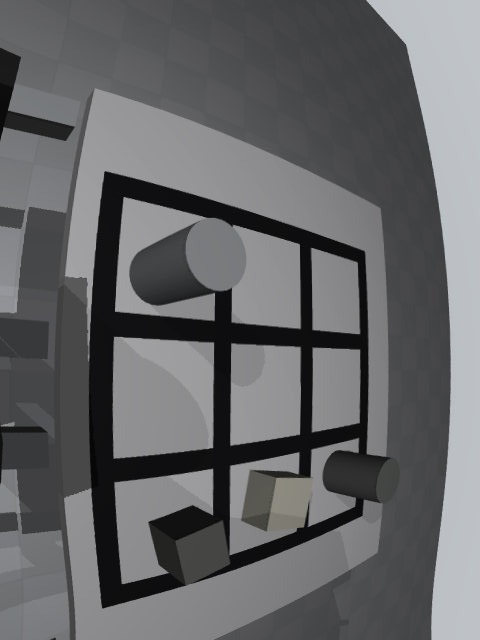can: (129, 218, 246, 306)
cube: (148, 506, 230, 586)
cylinder: (322, 450, 400, 504)
foam: (241, 470, 313, 532)
